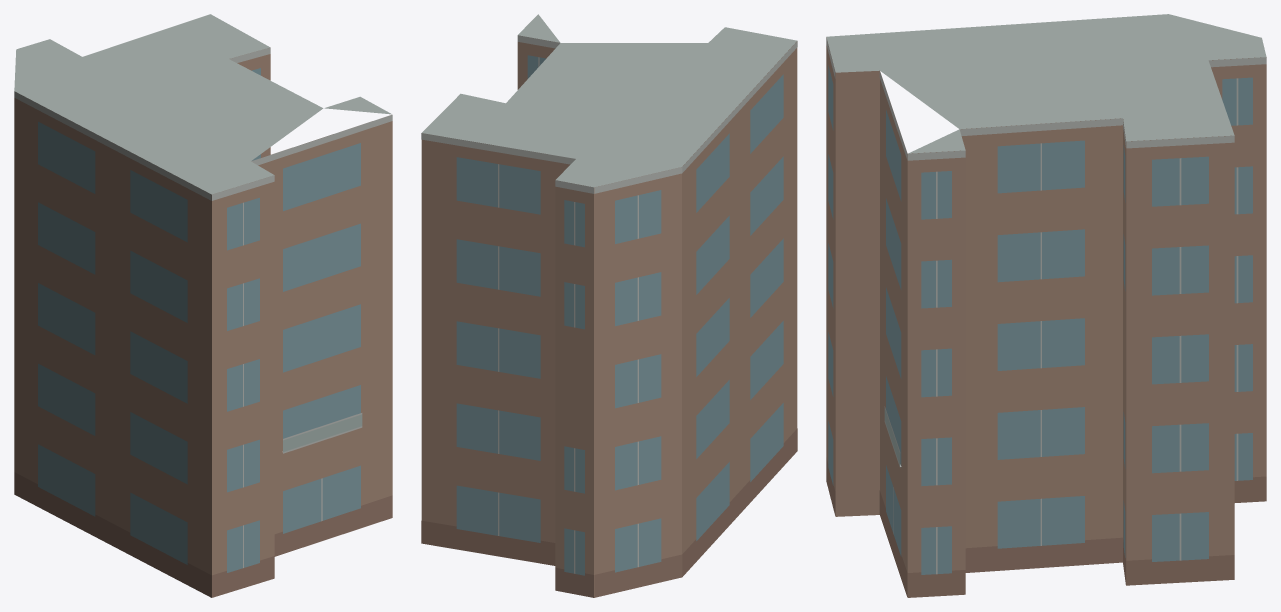
Rendered from survey-upis-32825049.glb.
3 views of the same model, side by side, from view 1: azimuth 30°, elevation 25°; view 2: azimuth 150°, elevation 25°; view 3: azimuth 270°, elevation 25° (orthographic). The views are drawn at different scales.
Parts seen in each view (by area): view 1: survey-upis-32825049.tmp; view 2: survey-upis-32825049.tmp; view 3: survey-upis-32825049.tmp.
Boxes of the visible parts, x1,y1,x2,y2 form: survey-upis-32825049.tmp: [14, 14, 392, 597]; survey-upis-32825049.tmp: [421, 14, 797, 597]; survey-upis-32825049.tmp: [826, 14, 1266, 597].
Size of the model in its own units: 10.29 by 15.25 by 13.71.
